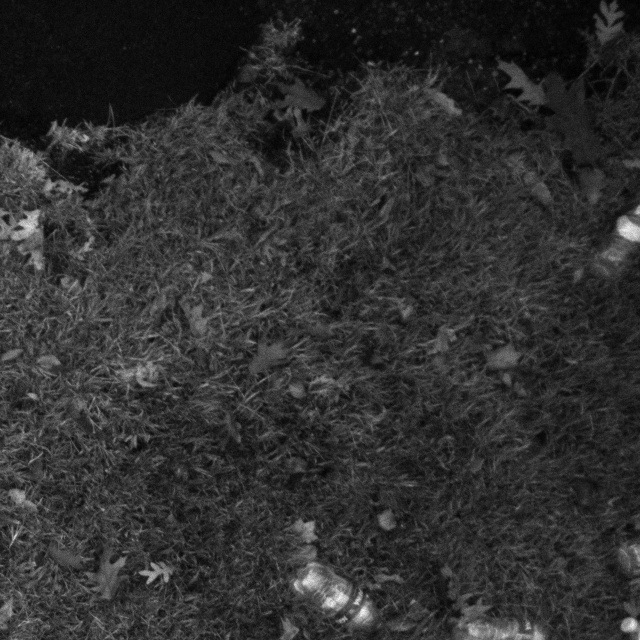bottle: (296, 552, 387, 640)
